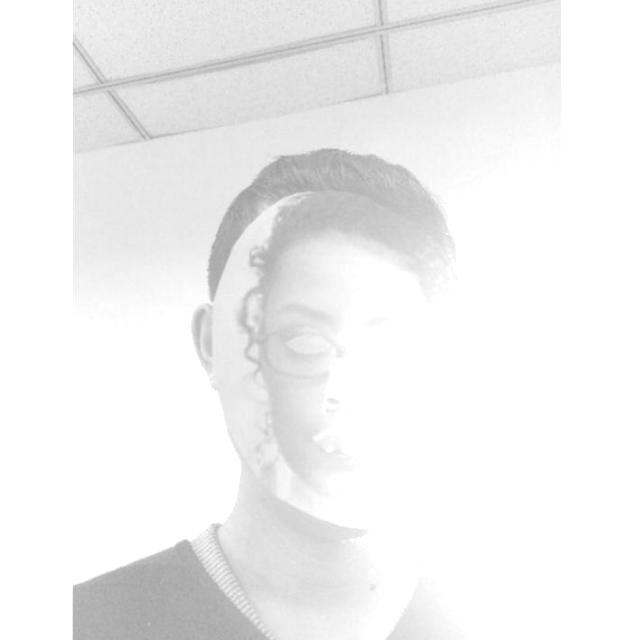fake: (216, 188, 496, 528)
